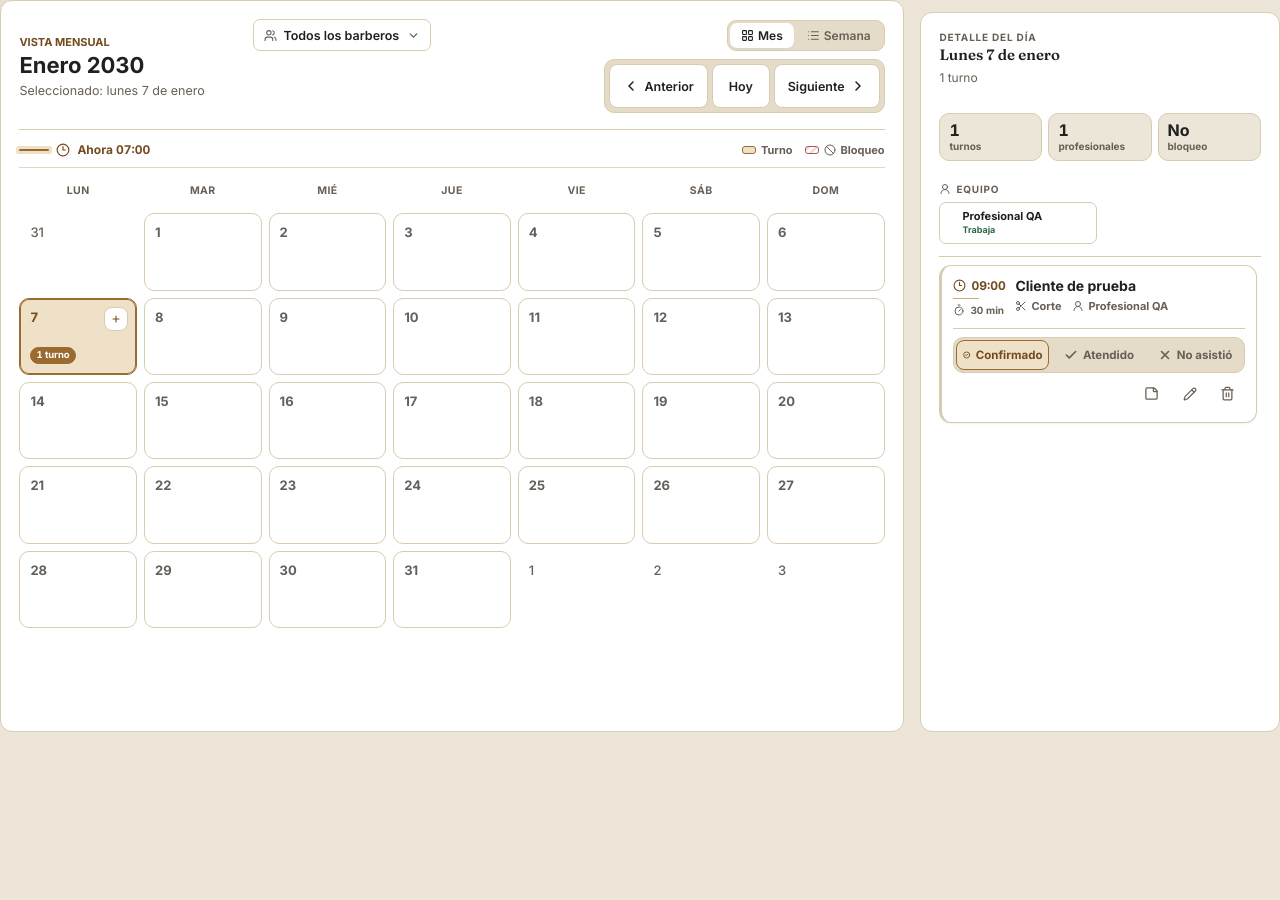
Test: arrastre del calendario › cancela sin guardar al recibir escape
Step 1. Click the button "Semana" → (839, 35), box [796,23,882,48]
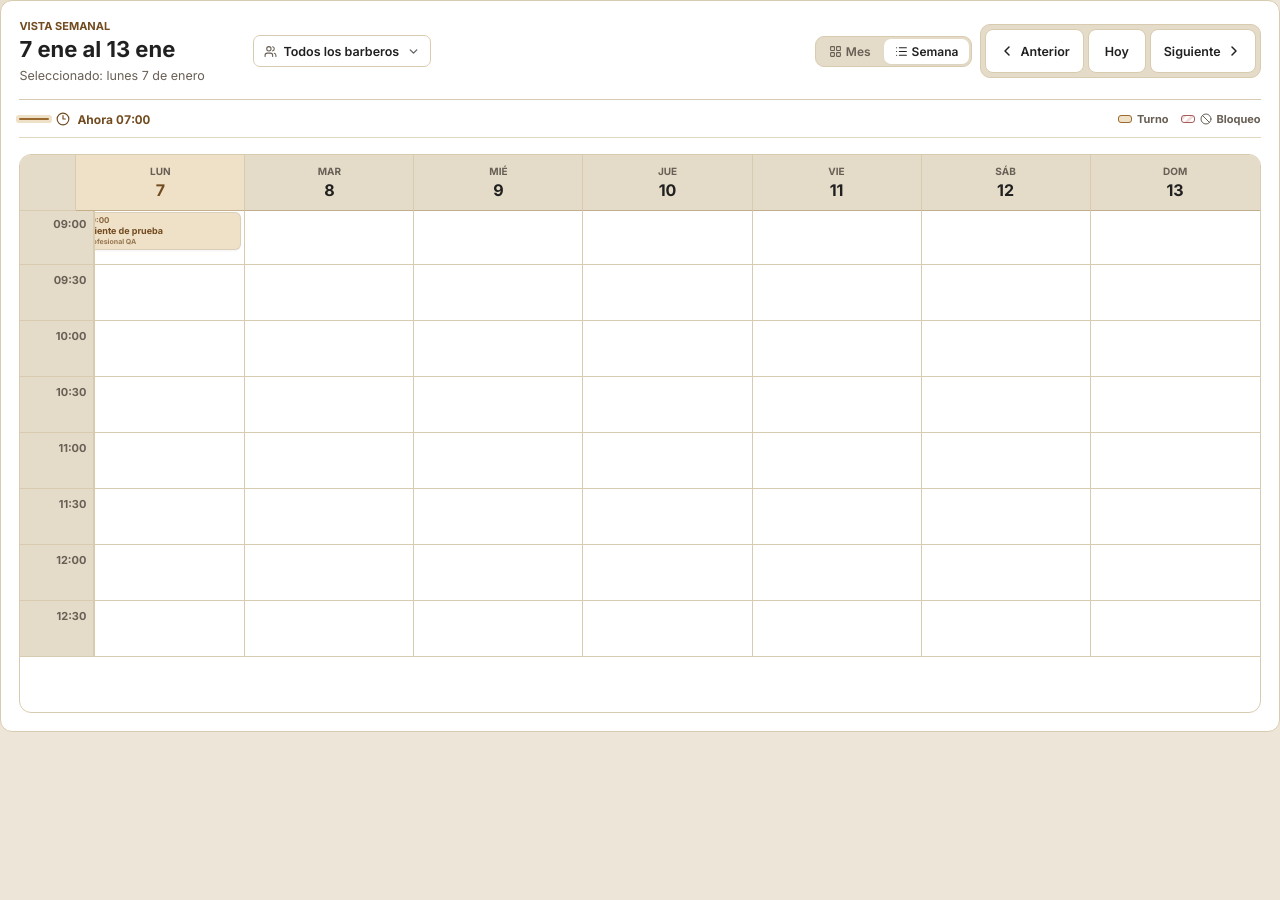
Step 2. Press the mouse on the button with class "week-chip--draggable" → (160, 231), box [79,212,241,250]
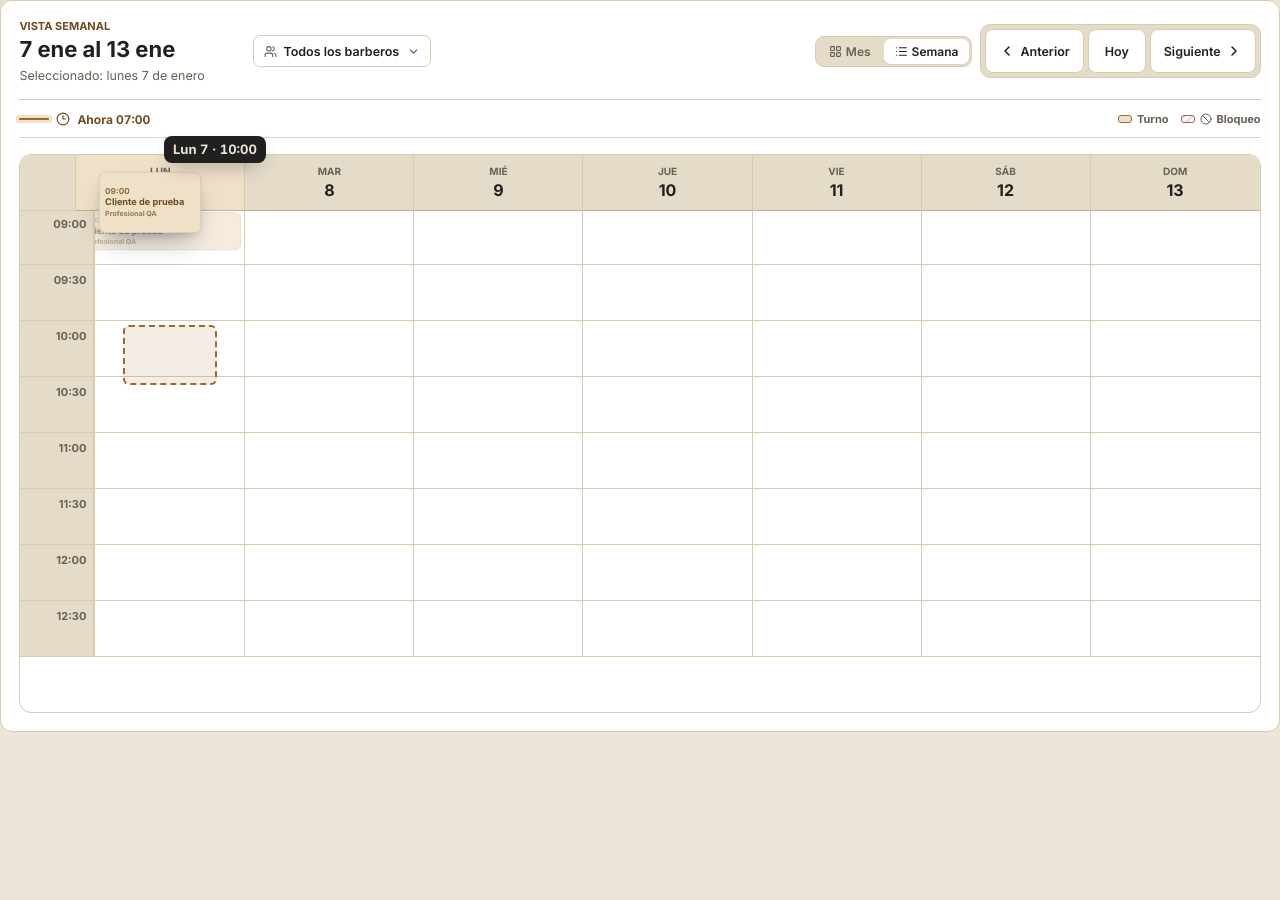
Expected: the button with class "week-chip-ghost" is shown, [99,172,201,233]
Step 3. Press Escape
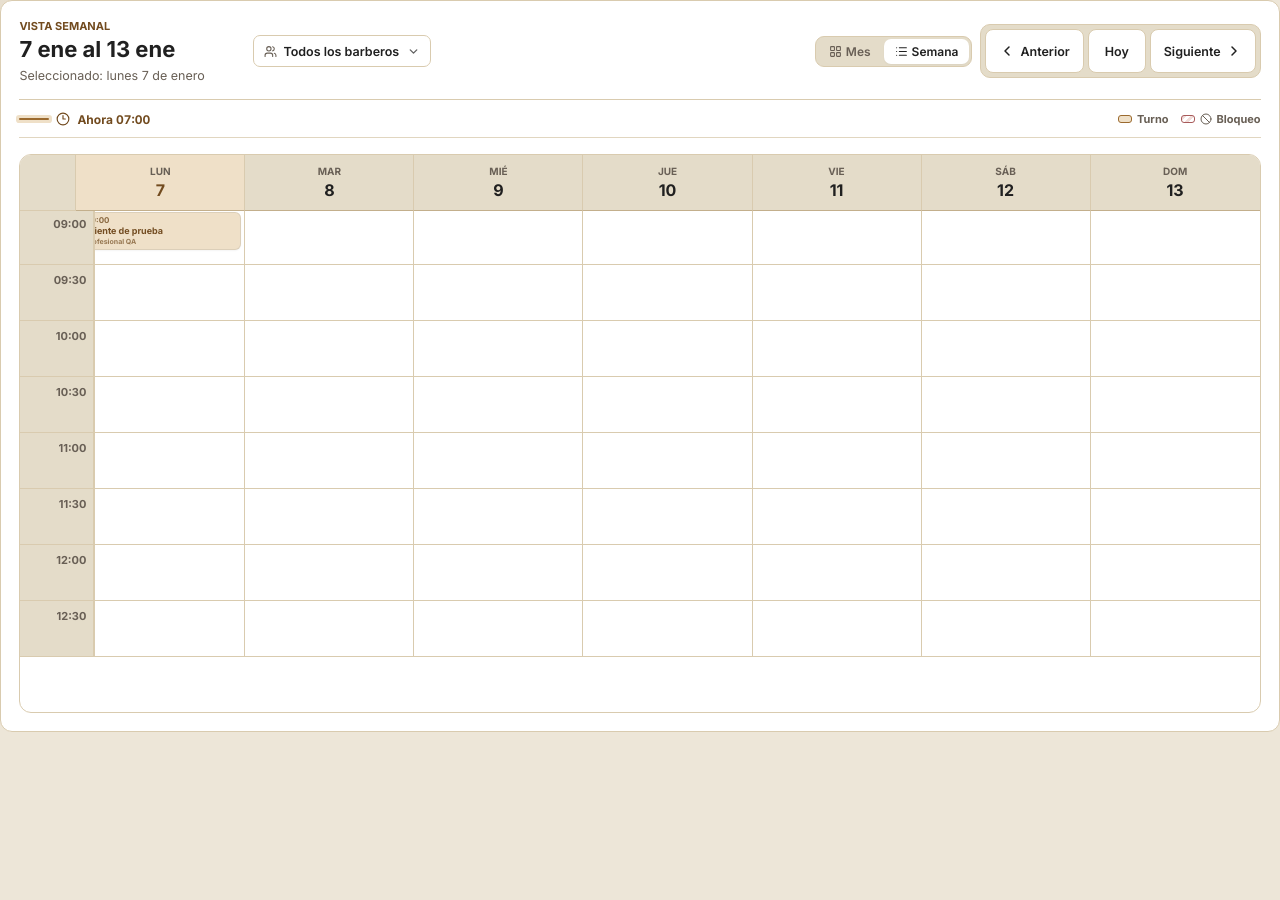
Expected: the button with class "week-chip-ghost" is gone
